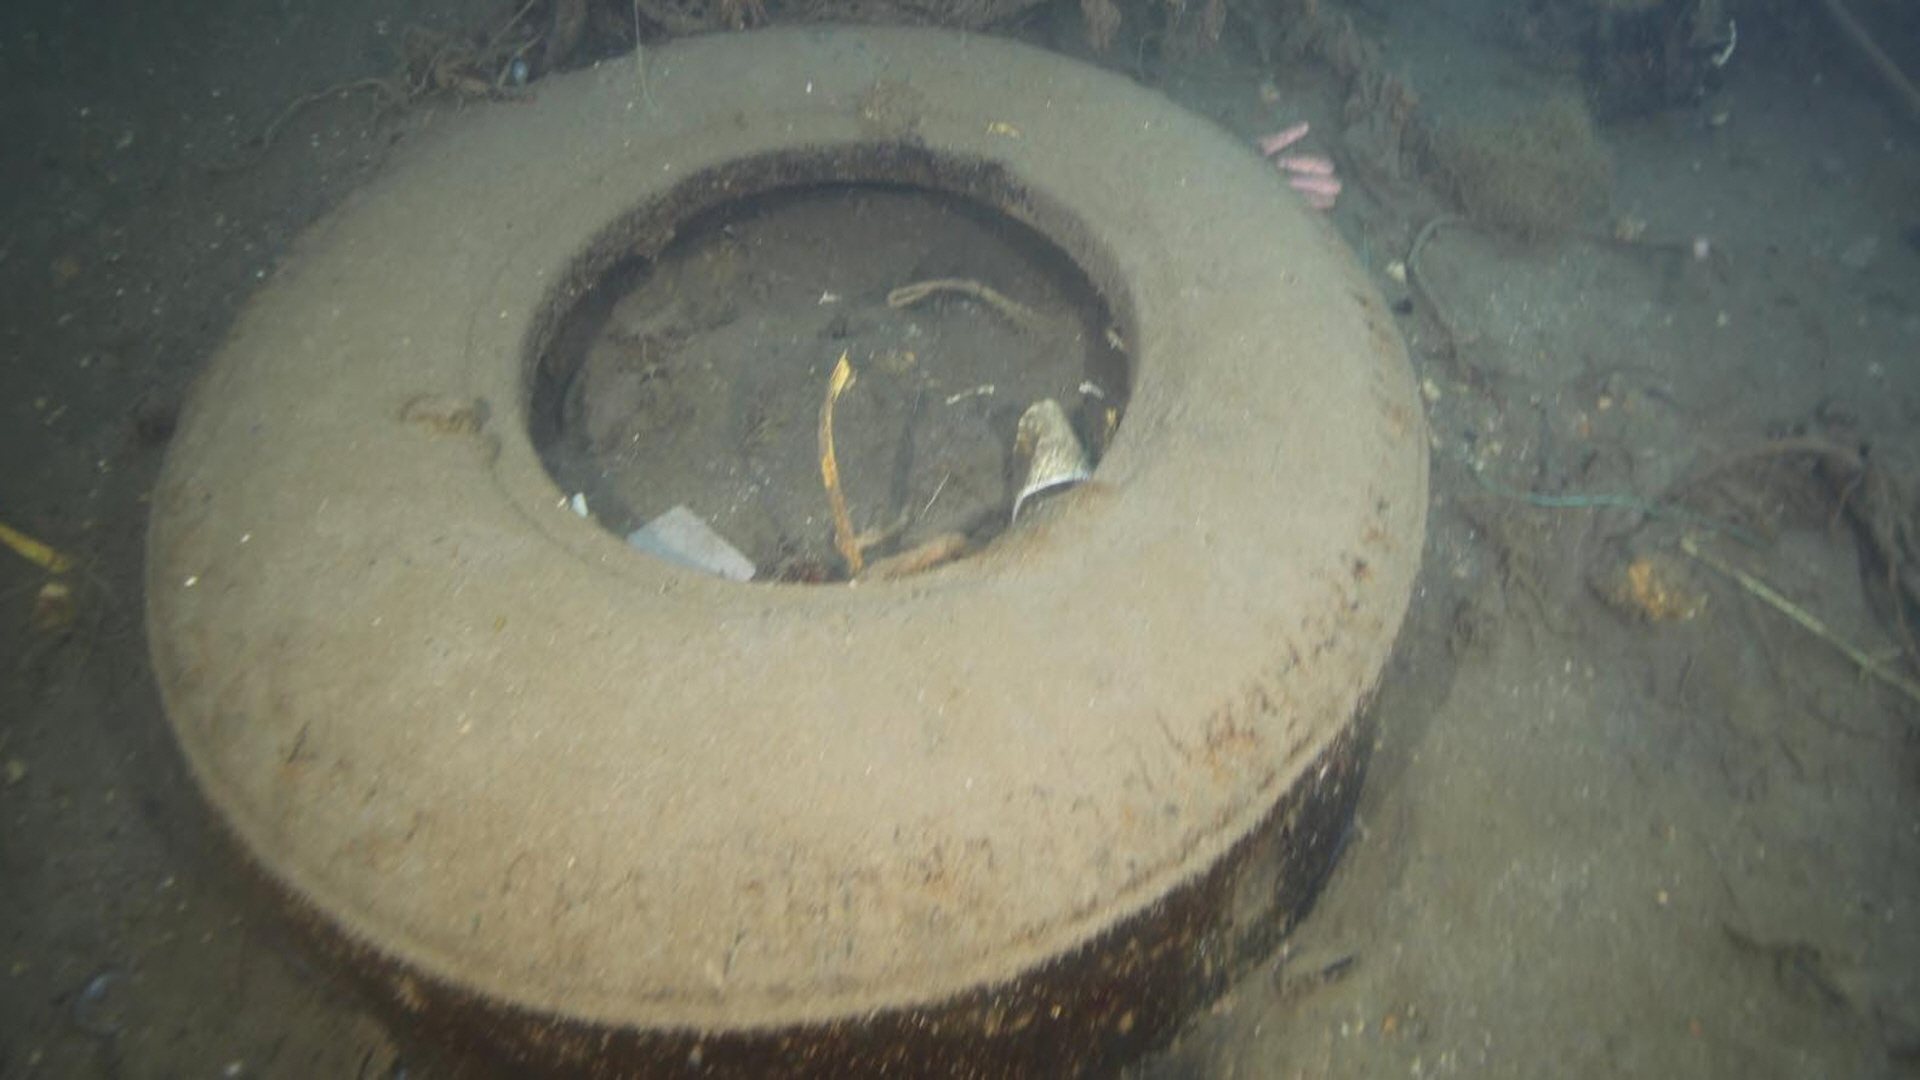tire: (138, 21, 1433, 1080)
